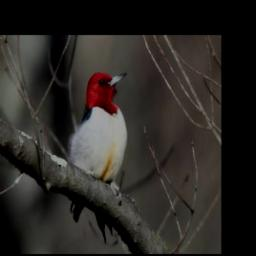Woodpecker: (66, 71, 131, 247)
